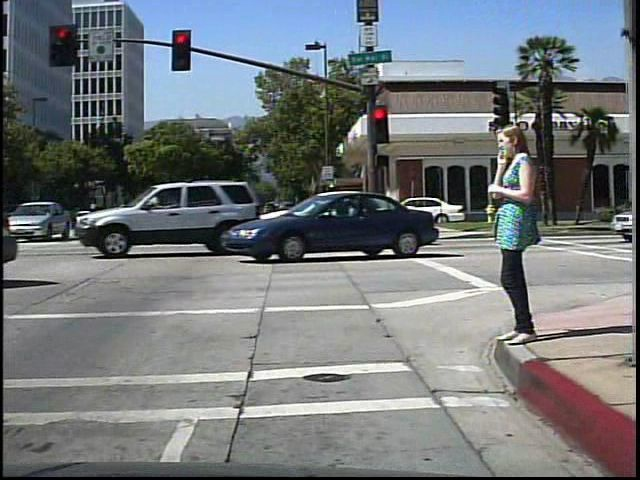person: (482, 115, 542, 352)
